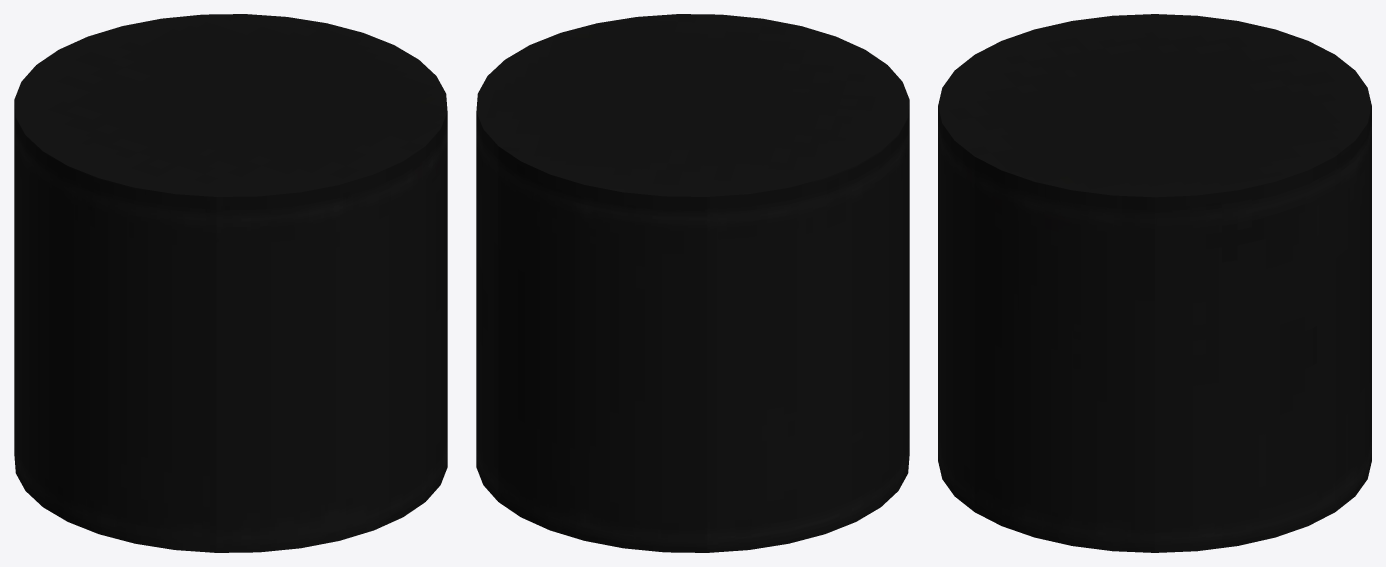
The model's file is wheel_0__hub.glb.
The picture shows the model from 3 angles, left to right: view 1: azimuth 30°, elevation 25°; view 2: azimuth 150°, elevation 25°; view 3: azimuth 270°, elevation 25°; orthographic projection.
Parts seen in each view (by area): view 1: world; view 2: world; view 3: world.
Boxes of the visible parts, <box> form: world: <box>14,14,447,552</box>; world: <box>476,14,909,552</box>; world: <box>938,14,1371,552</box>.
Bounding box in the file's own units: 0.042 × 0.038 × 0.042.
1 material, 1 textured.
